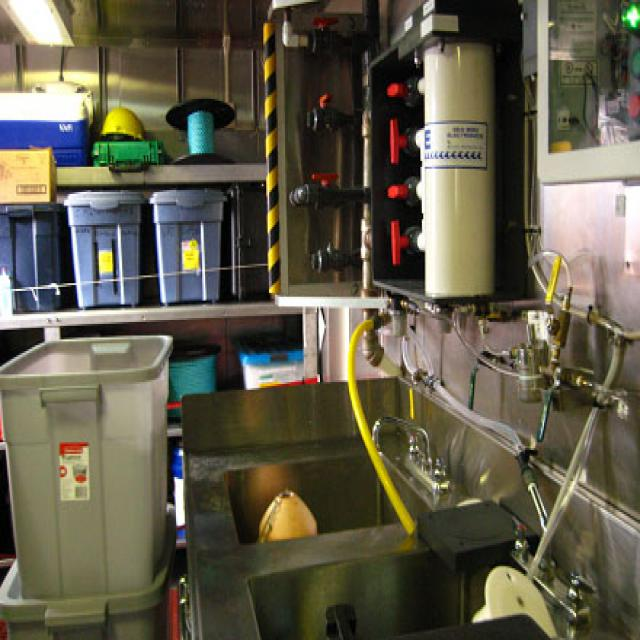bucket crop: (0, 334, 172, 592), (63, 188, 145, 306), (147, 188, 227, 304)
faucet handle: (372, 411, 448, 489)
sink basin: (179, 374, 639, 636)
